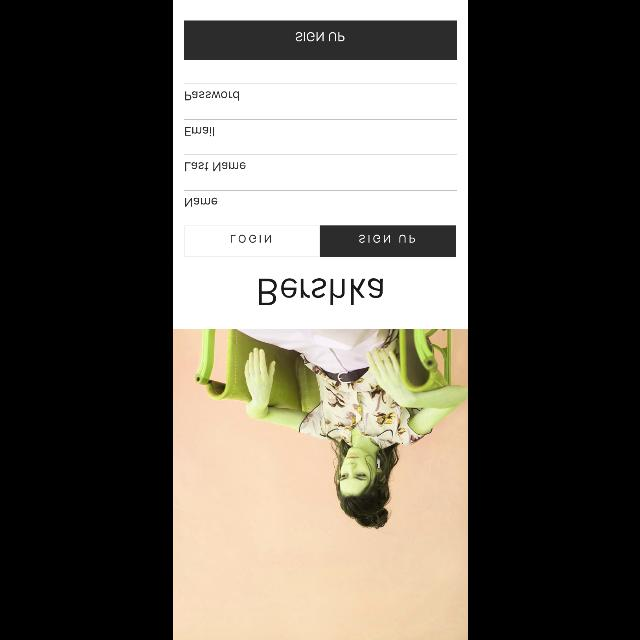image: (172, 329, 468, 639)
input: (183, 154, 457, 172), (183, 119, 457, 137), (183, 83, 457, 101), (183, 190, 457, 207)
text: (258, 278, 382, 304), (184, 162, 246, 172), (184, 91, 238, 101), (184, 127, 213, 137), (185, 198, 217, 206)
textbutton: (184, 20, 456, 60), (320, 226, 456, 256), (184, 226, 318, 256)
